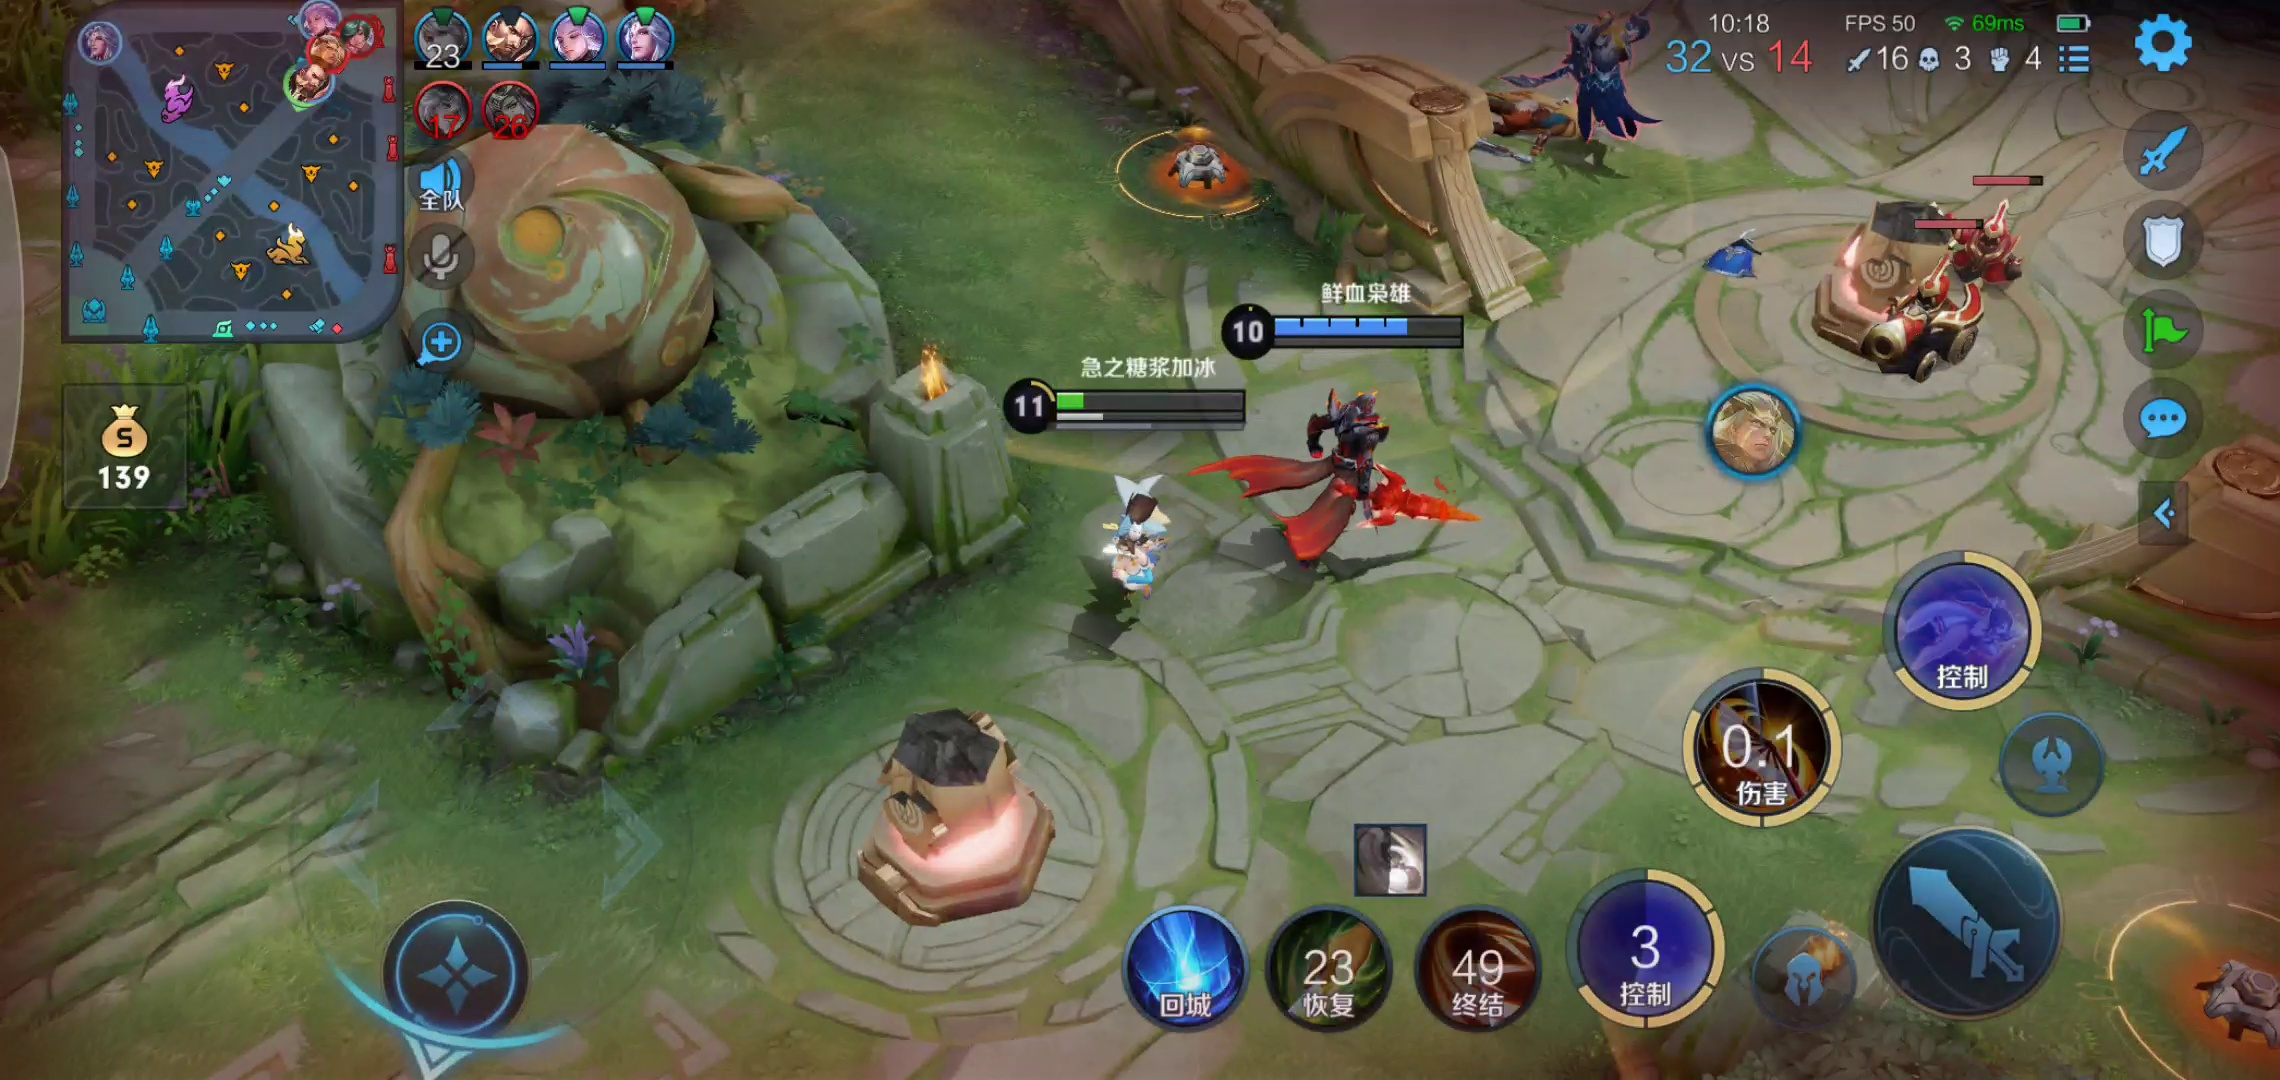grass: (10, 366, 265, 589)
hero: (1229, 390, 1482, 583), (1499, 1, 1668, 167), (1083, 462, 1189, 622)
soldier: (1868, 283, 1986, 376), (1951, 209, 2031, 278)
tower: (836, 705, 1079, 927), (1813, 203, 1954, 347)
